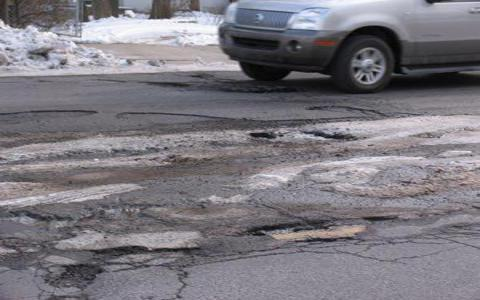patchy roads: (75, 122, 375, 266)
